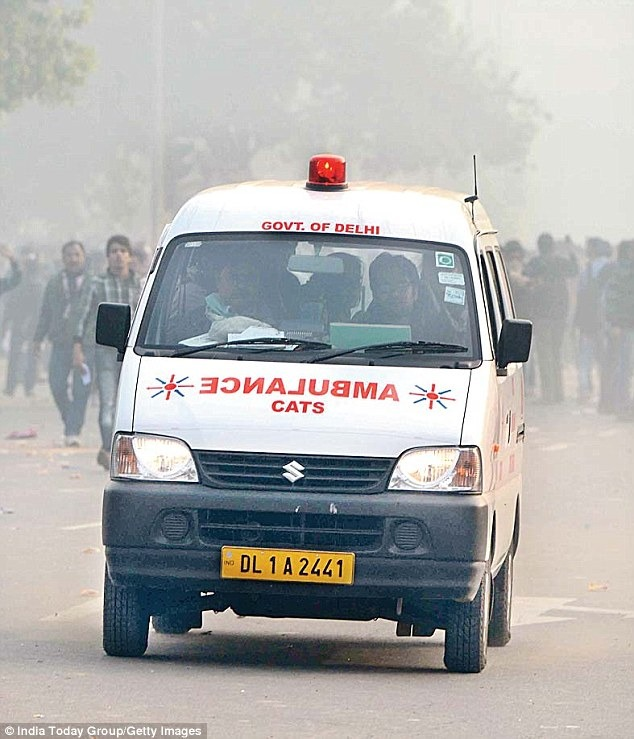ambulance: (104, 152, 545, 682), (155, 368, 465, 428)
numberplate: (216, 542, 362, 593)
